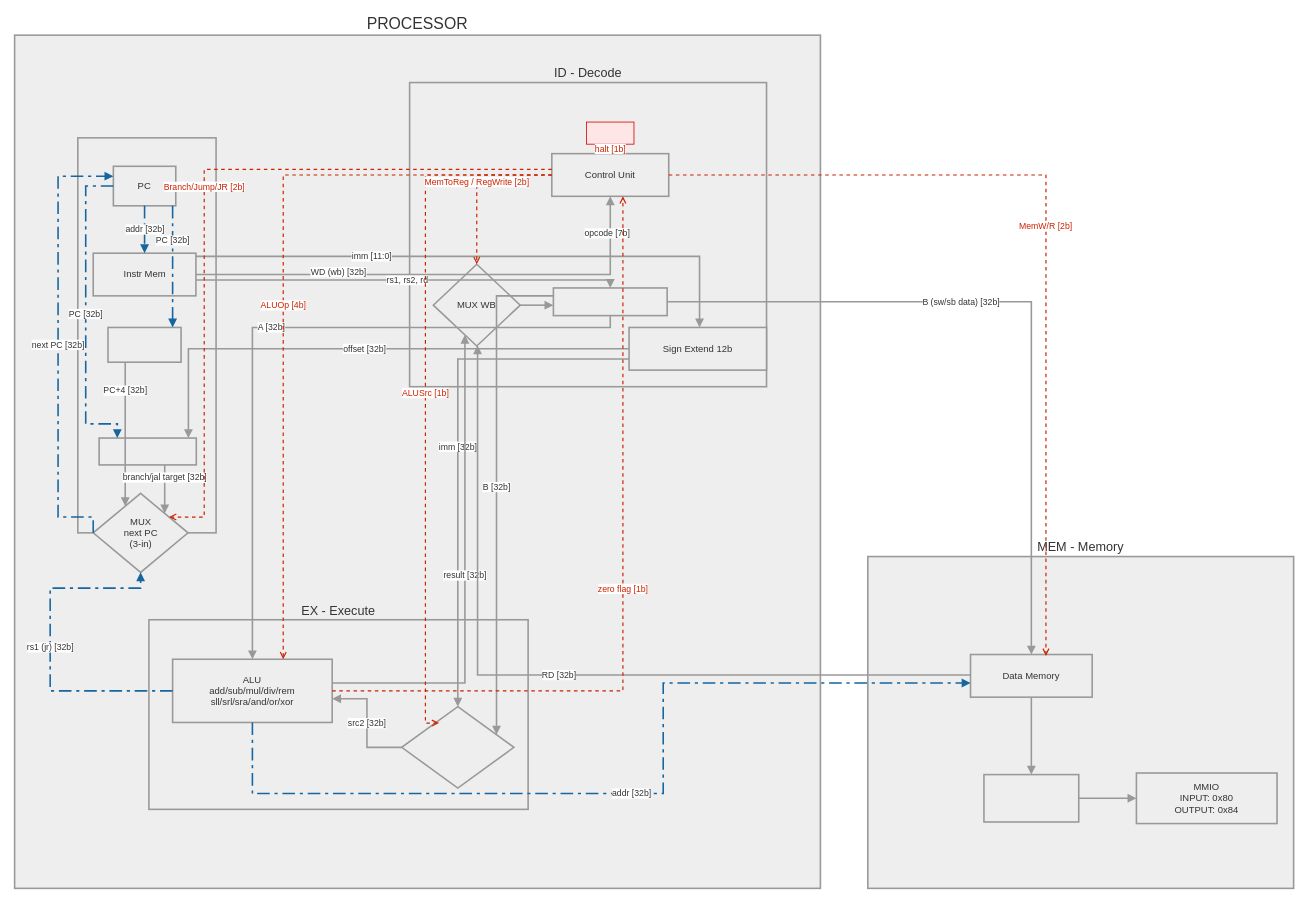
Image size: 1307x902. Some labels were removed from this diagram. Here are the shapes that lost their labels. From the top down, the box of each, then its label:
(586, 121, 634, 144): HALT
(552, 287, 668, 316): Register File 32x32b
(107, 326, 181, 363): PC+4
(77, 137, 216, 533): IF - Fetch
(98, 437, 197, 465): PC + offset (Branch / JAL Target)
(401, 705, 514, 788): MUX src2
(983, 773, 1079, 822): MMIO Decoder
